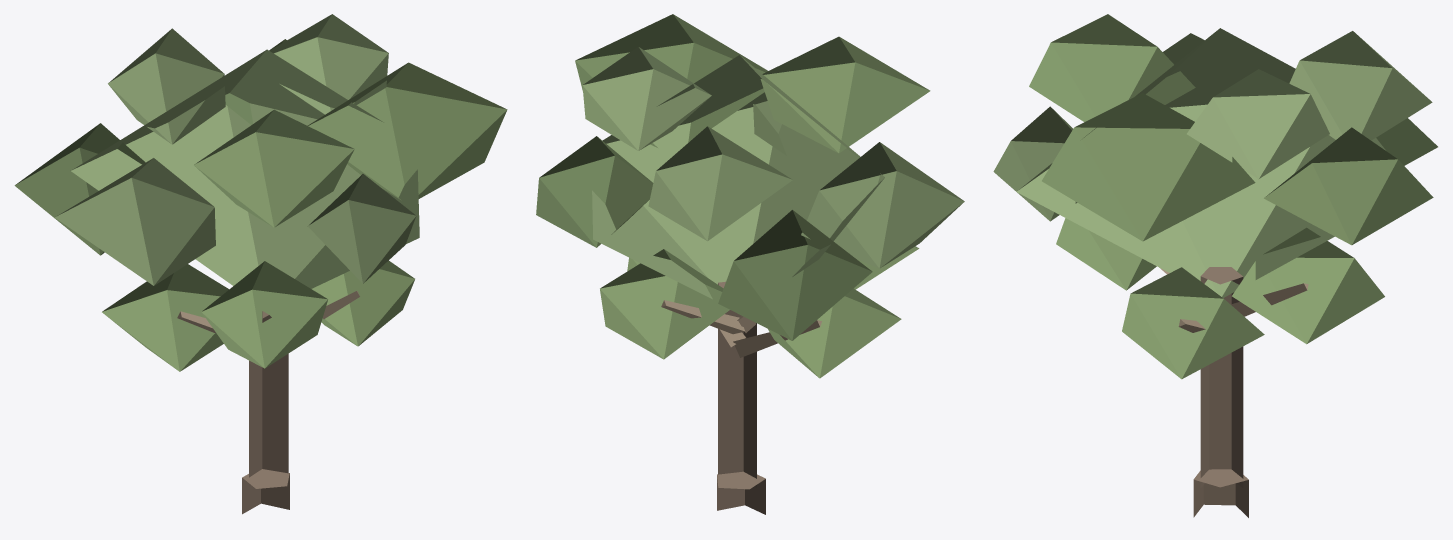
The model's file is tree.cold.willow__summer.glb.
3 renders of one model, left to right at view 1: azimuth 30°, elevation 25°; view 2: azimuth 150°, elevation 25°; view 3: azimuth 270°, elevation 25°, orthographic. The views are drawn at different scales.
Parts seen in each view (by area): view 1: tree.cold.willow__summer; view 2: tree.cold.willow__summer; view 3: tree.cold.willow__summer.
Part boxes in pixels (box(x1,y1,x2,y2)): tree.cold.willow__summer: box(14, 14, 507, 514); tree.cold.willow__summer: box(536, 14, 964, 514); tree.cold.willow__summer: box(993, 14, 1437, 517).
Size of the model in its own units: 4.58 by 5.11 by 4.22.
